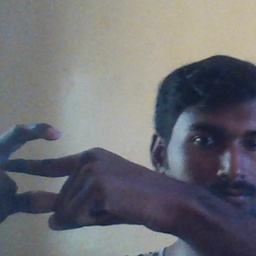E: (1, 119, 96, 231)
